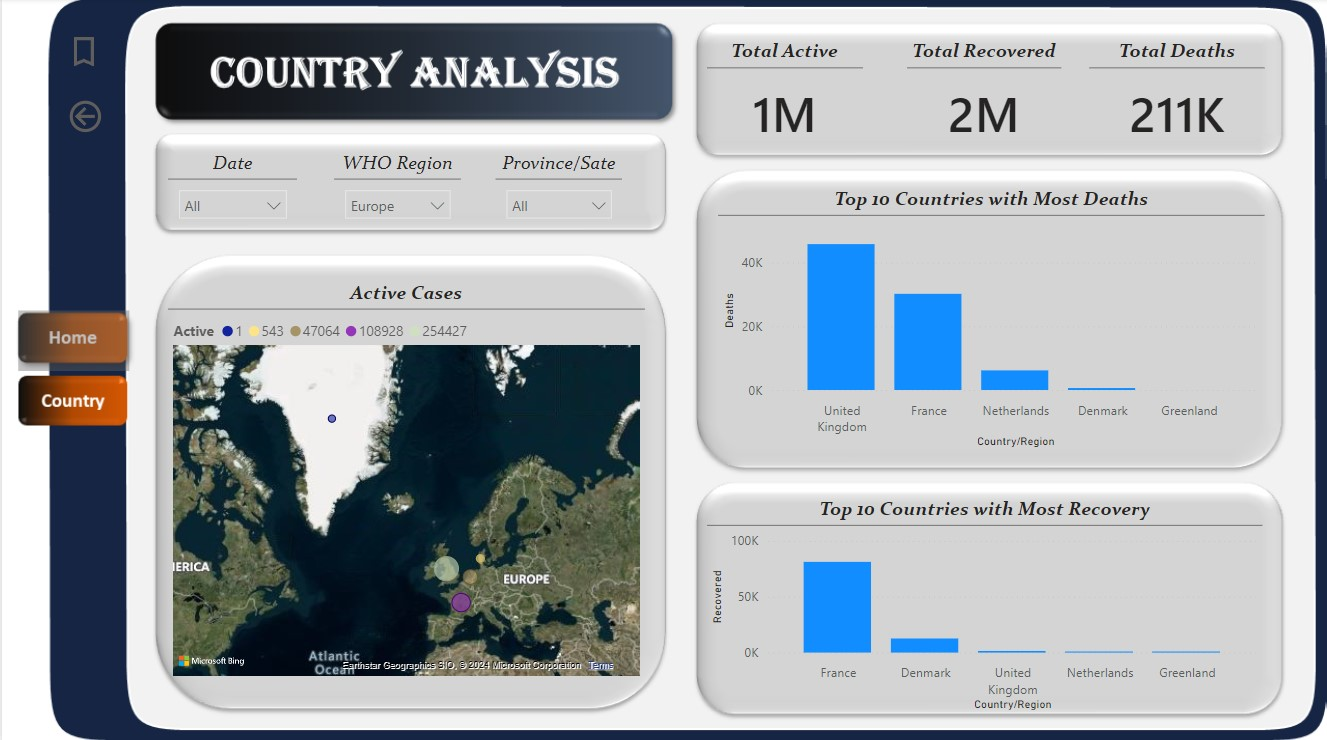

The dashboard page shown, as its layout file describes it:
{"tool":"powerbi","page":{"name":"Country","canvas":[1280,720],"ordinal":1},"visuals":[{"type":"actionButton","box":[16.2,301.2,107.5,58.8],"z":0},{"type":"map","title":"Active Cases","fields":{"Category":["country_wise_latest.Country/Region"],"Series":["country_wise_latest.Active"],"Size":["Sum(country_wise_latest.Active)"]},"box":[160.5,272.7,459.7,386.1],"z":4000},{"type":"columnChart","title":"Top 10 Countries with Most Deaths","fields":{"Category":["country_wise_latest.Country/Region"],"Y":["Sum(country_wise_latest.Deaths)"]},"box":[691.3,182.2,527.2,255.8],"z":5000},{"type":"columnChart","title":"Top 10 Countries with Most Recovery","fields":{"Category":["country_wise_latest.Country/Region"],"Y":["Sum(country_wise_latest.Recovered)"]},"box":[680,481.2,536.2,210],"z":6000},{"type":"card","title":"Total Recovered","fields":{"Values":["Sum(country_wise_latest.Recovered)"]},"box":[873.8,40,148.8,110],"z":7000},{"type":"card","title":"Total Active","fields":{"Values":["Sum(country_wise_latest.Active)"]},"box":[680,40,150,110],"z":8000},{"type":"card","title":"Total Deaths","fields":{"Values":["Sum(country_wise_latest.Deaths)"]},"box":[1049.6,39.8,168.9,109.8],"z":9000},{"type":"slicer","title":"Date","fields":{"Values":["covid_19_clean_complete.Date.Variation.Date Hierarchy.Year","covid_19_clean_complete.Date.Variation.Date Hierarchy.Quarter","covid_19_clean_complete.Date.Variation.Date Hierarchy.Month","covid_19_clean_complete.Date.Variation.Date Hierarchy.Day"]},"box":[160.5,147.2,124.3,68.8],"z":10000},{"type":"slicer","title":"WHO Region","fields":{"Values":["covid_19_clean_complete.WHO Region"]},"box":[320.9,147.2,121.9,68.8],"z":11000},{"type":"slicer","title":"Province/Sate","fields":{"Values":["covid_19_clean_complete.Province/State"]},"box":[476.5,147.2,121.9,68.8],"z":12000},{"type":"actionButton","box":[60.3,31.4,37.4,39.8],"z":13000},{"type":"actionButton","box":[59.8,94.6,50.1,40.3],"z":14000}]}

Visuals, with their boxes on the page's 1280x720 design canvas (x1, y1, x2, y2). These are canvas units, not pixel positions in the 1327x740 screenshot, which may show the page scaled, cropped or inside an application window:
actionButton: 16 301 124 360
"Active Cases" map: 160 273 620 659
"Top 10 Countries with Most Deaths" columnChart: 691 182 1218 438
"Top 10 Countries with Most Recovery" columnChart: 680 481 1216 691
"Total Recovered" card: 874 40 1023 150
"Total Active" card: 680 40 830 150
"Total Deaths" card: 1050 40 1218 150
"Date" slicer: 160 147 285 216
"WHO Region" slicer: 321 147 443 216
"Province/Sate" slicer: 476 147 598 216
actionButton: 60 31 98 71
actionButton: 60 95 110 135
